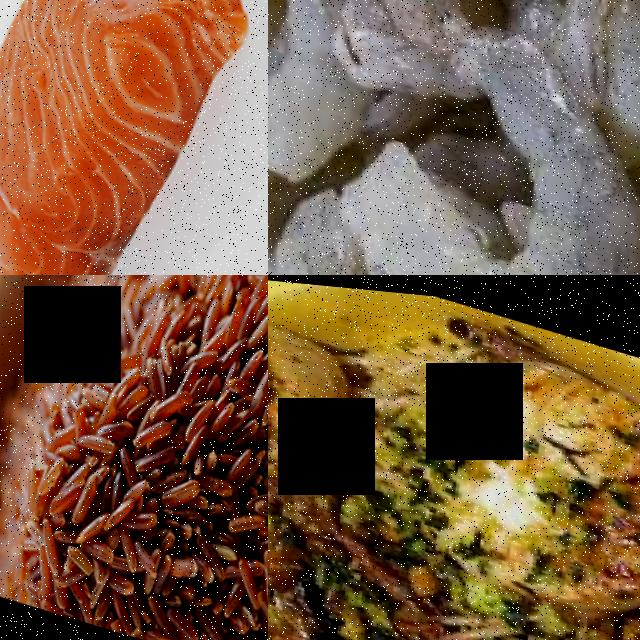red rice: (0, 275, 268, 640)
salmon: (0, 0, 268, 275)
sea scallops: (268, 297, 365, 485)
shrimp: (292, 0, 640, 275)
